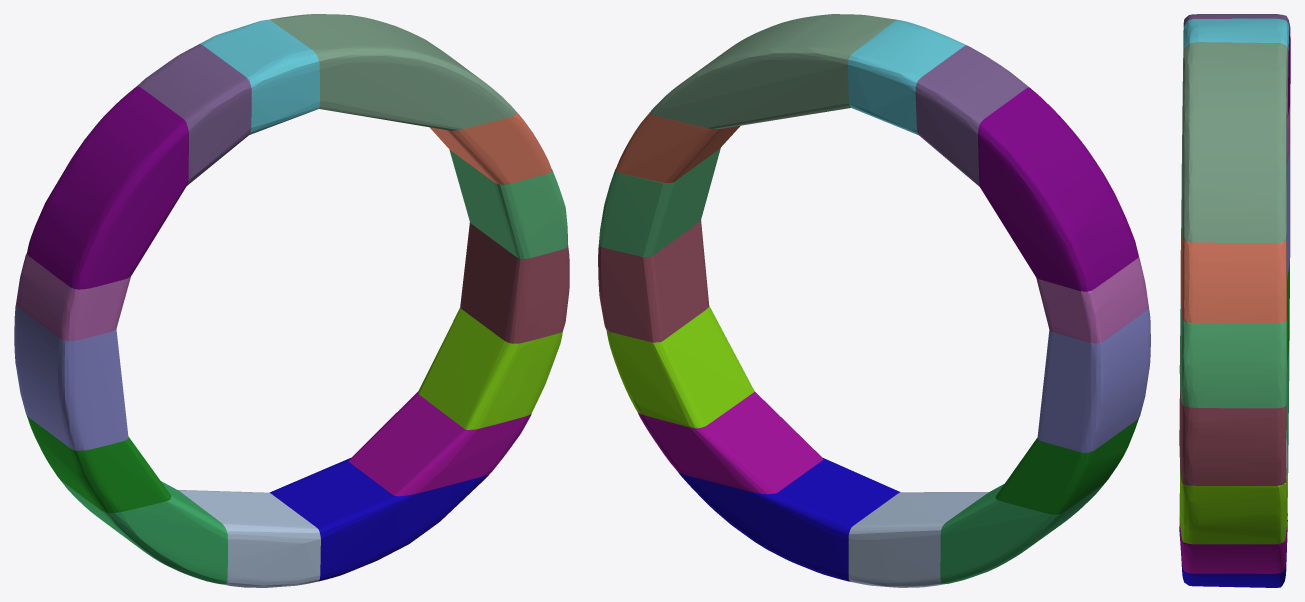
Rendered from coacd_collision.obj.
The picture shows the model from 3 angles, left to right: view 1: azimuth 30°, elevation 25°; view 2: azimuth 150°, elevation 25°; view 3: azimuth 270°, elevation 25°; orthographic projection. The views are drawn at different scales.
Parts seen in each view (by area): view 1: geometry_11, geometry_0, geometry_5, geometry_12, geometry_4, geometry_14, geometry_13, geometry_6, geometry_1, geometry_2, geometry_3, geometry_10 (+3 smaller); view 2: geometry_11, geometry_0, geometry_5, geometry_12, geometry_4, geometry_14, geometry_13, geometry_6, geometry_1, geometry_2, geometry_3, geometry_10 (+3 smaller); view 3: geometry_0, geometry_3, geometry_9, geometry_13, geometry_4, geometry_14, geometry_2, geometry_5, geometry_1, geometry_12, geometry_10, geometry_8 (+2 smaller).
Boxes of the visible parts, left/top/right/bottom form: geometry_11: left=27, top=86, right=188, bottom=289; geometry_0: left=270, top=14, right=516, bottom=130; geometry_5: left=269, top=458, right=488, bottom=581; geometry_12: left=14, top=305, right=128, bottom=450; geometry_4: left=418, top=307, right=562, bottom=429; geometry_14: left=348, top=391, right=531, bottom=496; geometry_13: left=460, top=222, right=569, bottom=343; geometry_6: left=178, top=490, right=320, bottom=587; geometry_1: left=137, top=44, right=251, bottom=185; geometry_2: left=199, top=19, right=319, bottom=134; geometry_3: left=449, top=150, right=567, bottom=258; geometry_10: left=60, top=480, right=227, bottom=584; geometry_11: left=978, top=87, right=1138, bottom=291; geometry_0: left=651, top=14, right=897, bottom=128; geometry_5: left=678, top=458, right=900, bottom=581; geometry_12: left=1037, top=308, right=1150, bottom=452; geometry_4: left=606, top=306, right=754, bottom=428; geometry_14: left=638, top=391, right=823, bottom=494; geometry_13: left=598, top=220, right=709, bottom=342; geometry_6: left=848, top=492, right=988, bottom=587; geometry_1: left=915, top=45, right=1028, bottom=186; geometry_2: left=848, top=20, right=966, bottom=134; geometry_3: left=599, top=148, right=720, bottom=257; geometry_10: left=940, top=483, right=1104, bottom=584; geometry_0: left=1181, top=42, right=1288, bottom=242; geometry_3: left=1179, top=304, right=1287, bottom=408; geometry_9: left=1180, top=218, right=1286, bottom=323; geometry_13: left=1179, top=390, right=1286, bottom=485; geometry_4: left=1179, top=468, right=1287, bottom=544; geometry_14: left=1179, top=517, right=1287, bottom=573; geometry_2: left=1183, top=18, right=1289, bottom=61; geometry_5: left=1181, top=520, right=1287, bottom=587; geometry_1: left=1183, top=14, right=1289, bottom=31; geometry_12: left=1286, top=149, right=1290, bottom=279; geometry_10: left=1286, top=348, right=1289, bottom=474; geometry_8: left=1287, top=263, right=1289, bottom=366.
Size of the model in its own units: 94.55 by 94.23 by 18.4.
